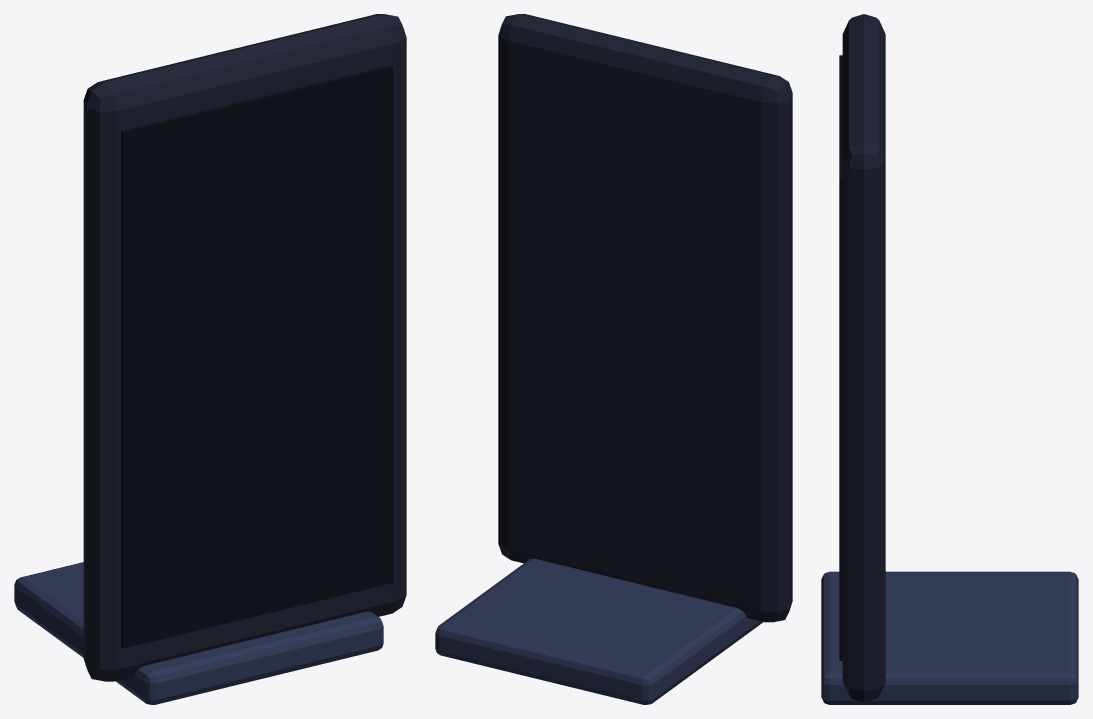
The model's file is smartphone.glb.
The picture shows the model from 3 angles, left to right: view 1: azimuth 30°, elevation 25°; view 2: azimuth 150°, elevation 25°; view 3: azimuth 270°, elevation 25°; orthographic projection. The views are drawn at different scales.
Parts seen in each view (by area): view 1: screen, body, stand; view 2: body, stand; view 3: body, stand, screen.
Boxes of the visible parts, x1,y1,x2,y2 form: screen: (121,65,393,648); body: (83,14,406,681); stand: (14,562,383,704); body: (498,14,792,622); stand: (435,558,762,704); body: (842,14,885,702); stand: (821,571,1078,704); screen: (839,55,842,660).
Bounding box in the file's own units: 0.4 × 0.74 × 0.3.
